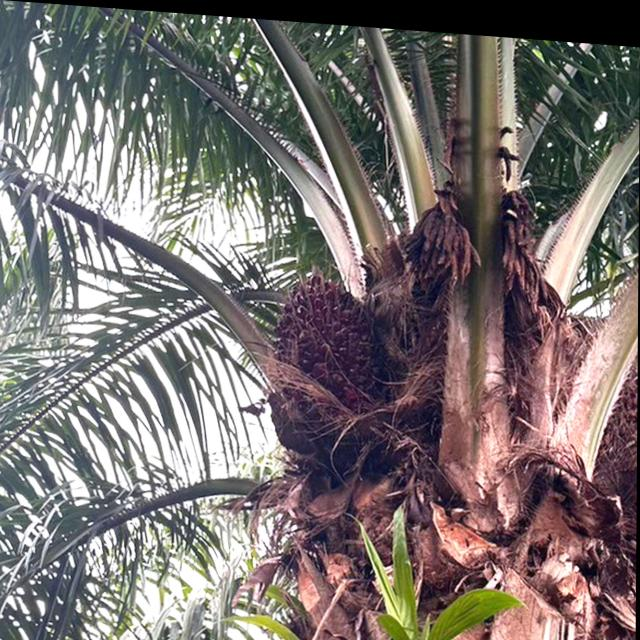ripe: (253, 244, 392, 430)
